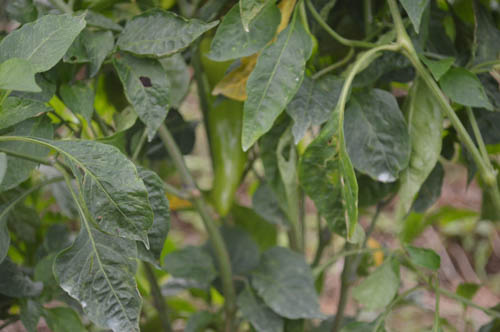ChiliPepper: (203, 98, 246, 222)
